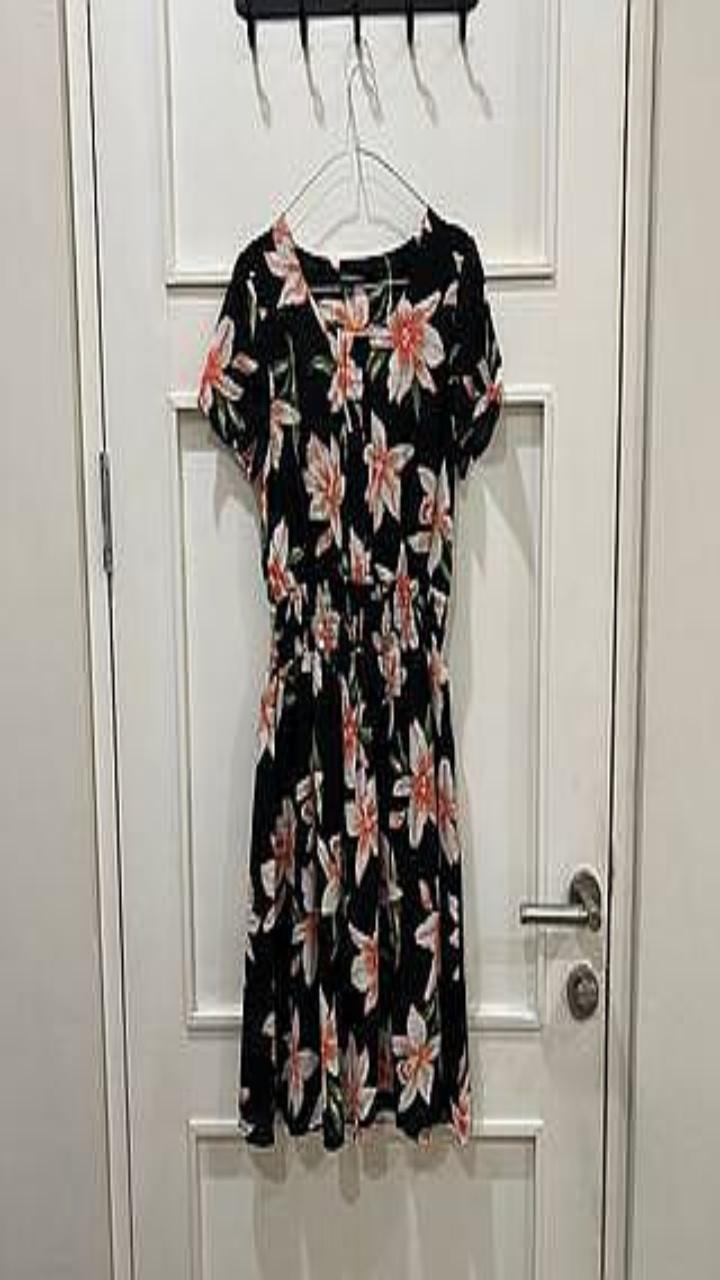Dresses: (198, 205, 501, 1147)
